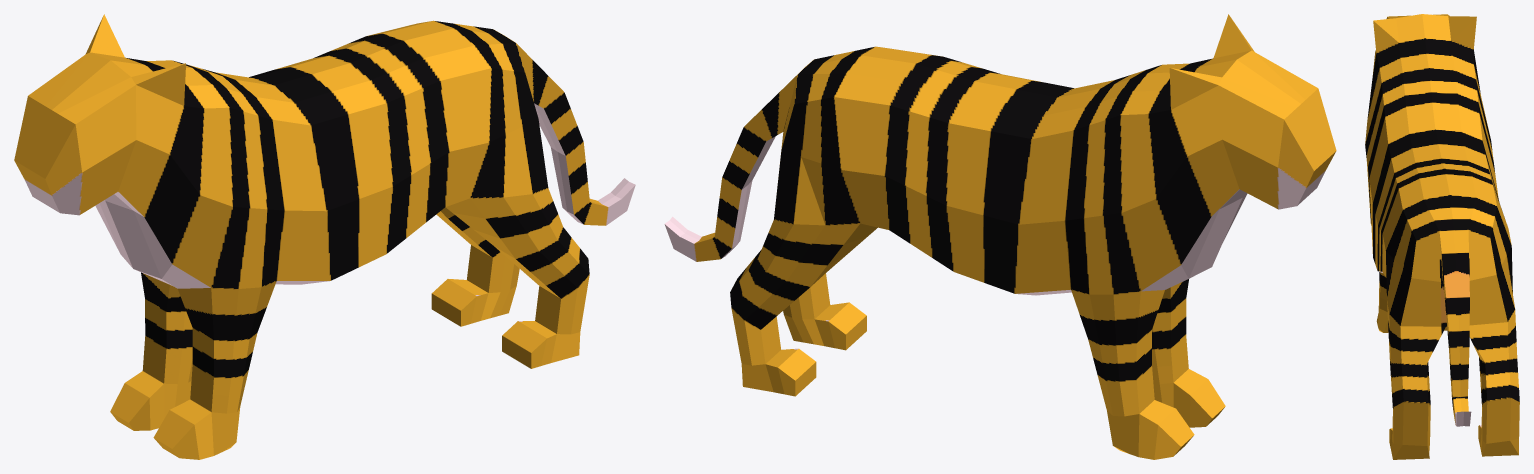
File: Tiger.glb
3 views of the same model, side by side, from view 1: azimuth 30°, elevation 25°; view 2: azimuth 150°, elevation 25°; view 3: azimuth 270°, elevation 25° (orthographic). The views are drawn at different scales.
Visible parts, largest first — view 1: Tiger; view 2: Tiger; view 3: Tiger.
Part boxes in pixels (x1,y1,x2,y2): Tiger: (14,14,635,459); Tiger: (664,14,1336,459); Tiger: (1365,14,1519,459).
Size of the model in its own units: 1.85 by 1.12 by 0.533.
1 material, 1 textured.
